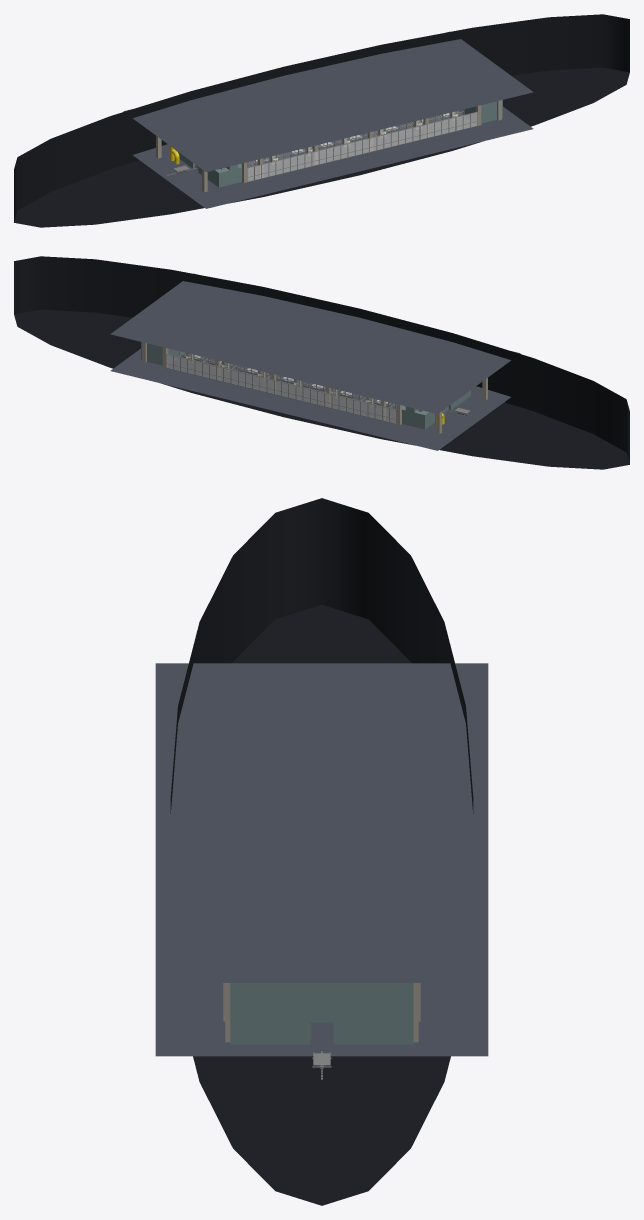
Rendered from FactoryFBX_4.fbx.
3 views of the same model, one above another, from view 1: azimuth 30°, elevation 25°; view 2: azimuth 150°, elevation 25°; view 3: azimuth 270°, elevation 25° (orthographic). The views are drawn at different scales.
Visible parts, largest first — view 1: pCylinder124, pPlane2, pPlane1, pCube208, pCube155, pCube135, pCube140, pCube207, pCube157, pCube102; view 2: pCylinder124, pPlane2, pPlane1, pCube208, pCube155, pCube135, pCube140, pCube207, pCube157, pCube102; view 3: pPlane2, pCylinder124, pPlane1, pCube157.
Part boxes in pixels (x1,y1,x2,y2): pCylinder124: (14, 14, 629, 227); pPlane2: (123, 31, 533, 172); pPlane1: (133, 106, 533, 208); pCube208: (247, 112, 477, 181); pCube155: (247, 111, 477, 182); pCube135: (175, 149, 241, 187); pCube140: (156, 100, 501, 192); pCube207: (249, 110, 463, 166); pCube157: (458, 100, 502, 123); pCube102: (247, 109, 464, 168); pCylinder124: (14, 256, 629, 469); pPlane2: (110, 273, 520, 414); pPlane1: (110, 348, 510, 450); pCube208: (166, 354, 396, 423); pCube155: (166, 353, 396, 424); pCube135: (402, 390, 470, 429); pCube140: (142, 342, 487, 434); pCube207: (180, 352, 394, 408); pCube157: (141, 342, 185, 365); pCube102: (179, 351, 396, 410); pPlane2: (155, 663, 488, 982); pCylinder124: (170, 498, 473, 1205); pPlane1: (155, 983, 488, 1056); pCube157: (230, 983, 413, 1044).
Bounding box in the file's own units: 867 × 71.74 × 203.
